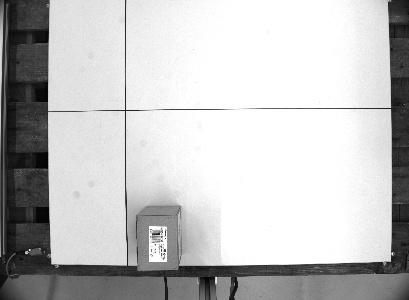b5: (133, 202, 183, 274)
